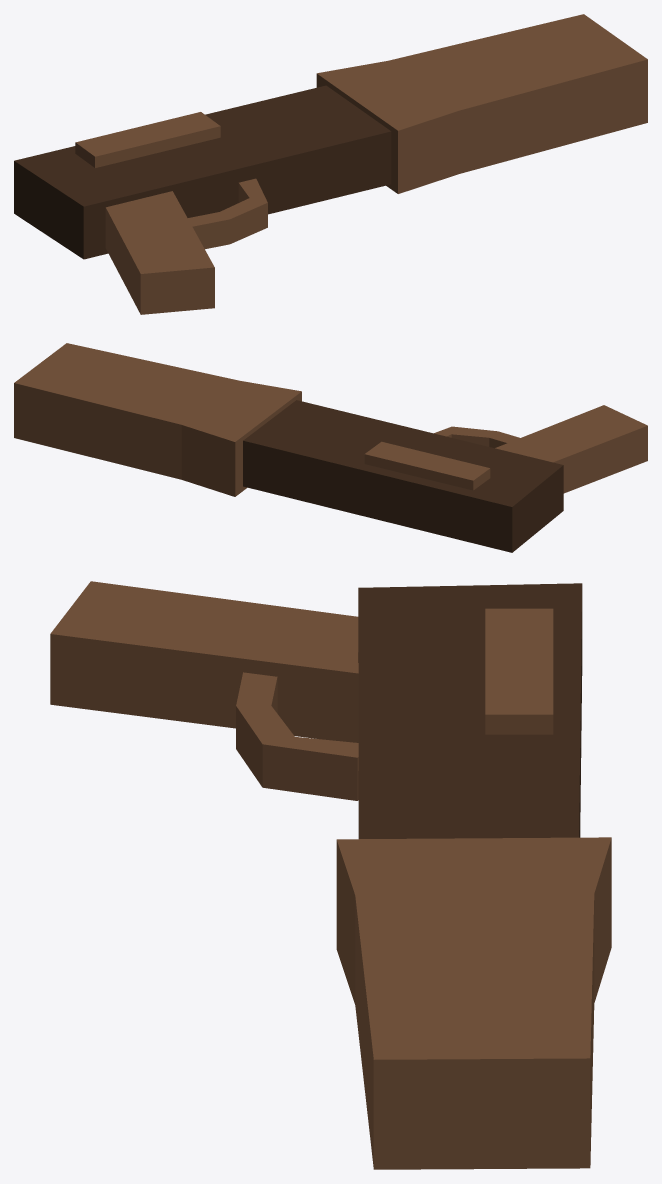
File: rifle_korpus.fbx
The picture shows the model from 3 angles, top to bottom: view 1: azimuth 30°, elevation 25°; view 2: azimuth 150°, elevation 25°; view 3: azimuth 270°, elevation 25°; orthographic projection. The views are drawn at different scales.
Visible parts, largest first — view 1: pCube164; view 2: pCube164; view 3: pCube164.
Part boxes in pixels (x1=…): pCube164: x1=14, y1=14, x2=647, y2=314; pCube164: x1=14, y1=343, x2=647, y2=552; pCube164: x1=50, y1=581, x2=611, y2=1169.
Bounding box in the file's own units: 1.16 × 0.1313 × 0.5538.
